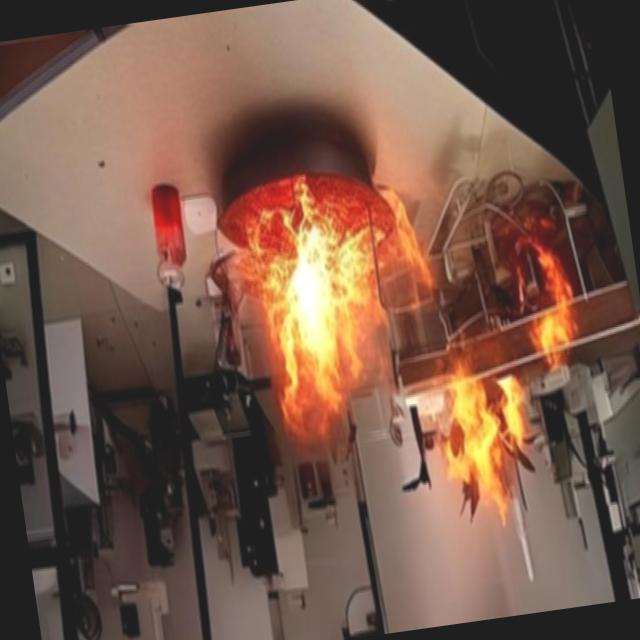fire: (202, 165, 428, 485), (408, 256, 628, 535)
